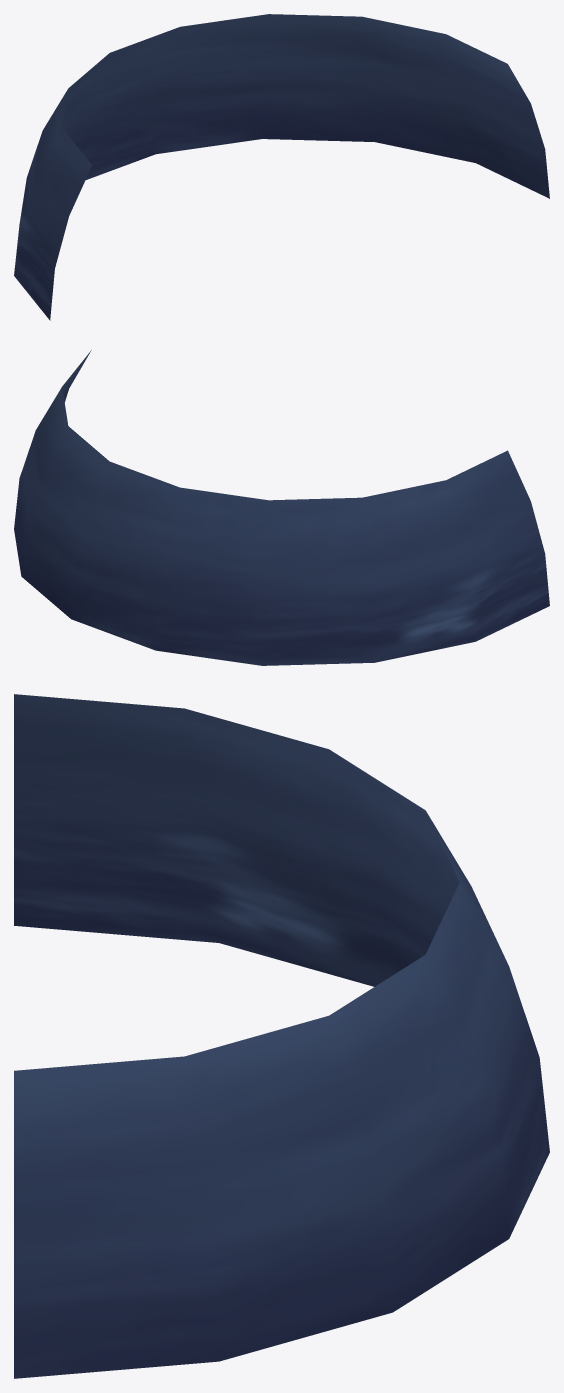
File: Sky.glb
The picture shows the model from 3 angles, top to bottom: view 1: azimuth 30°, elevation 25°; view 2: azimuth 150°, elevation 25°; view 3: azimuth 270°, elevation 25°; orthographic projection. The views are drawn at different scales.
Parts seen in each view (by area): view 1: Sky; view 2: Sky; view 3: Sky.
Boxes of the visible parts, x1,y1,x2,y2 form: Sky: [14, 14, 549, 320]; Sky: [14, 350, 549, 665]; Sky: [14, 694, 549, 1378].
Bounding box in the file's own units: 56.07 × 15.57 × 28.03.
Materials: 1 (1 with a texture image).
